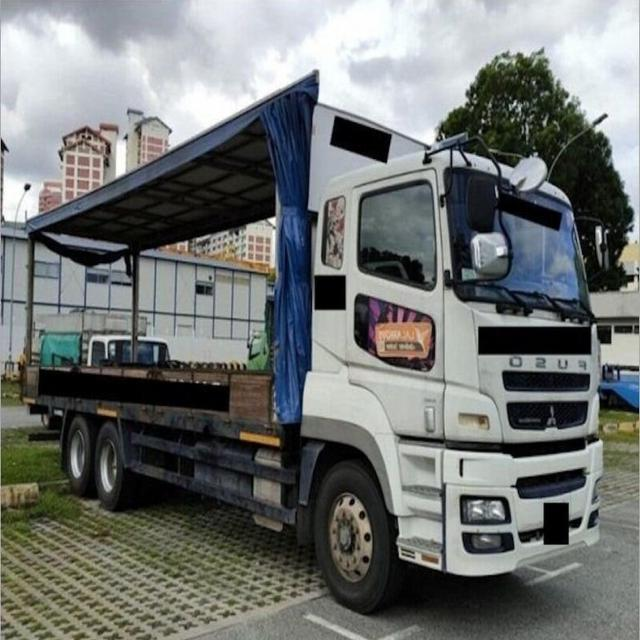truck: (18, 71, 606, 608)
